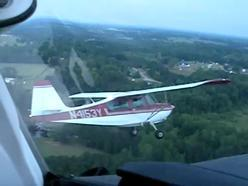aircraft: (31, 78, 230, 138)
